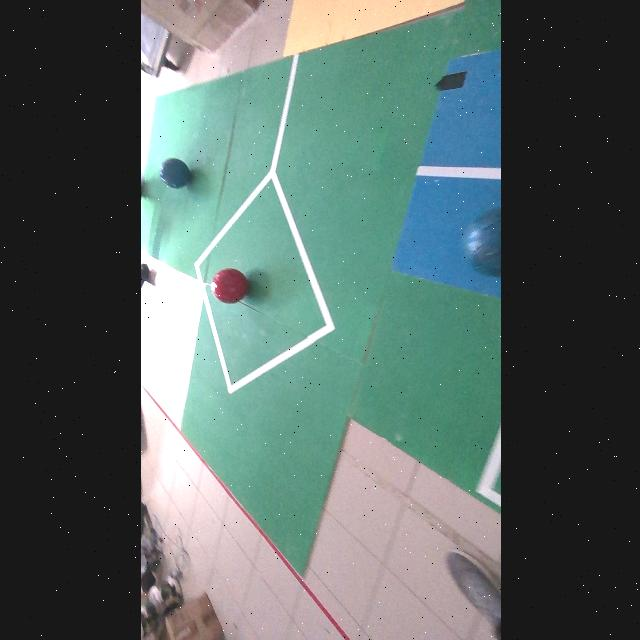B: (463, 208, 500, 276), (159, 158, 190, 189)
R: (210, 269, 248, 303)
